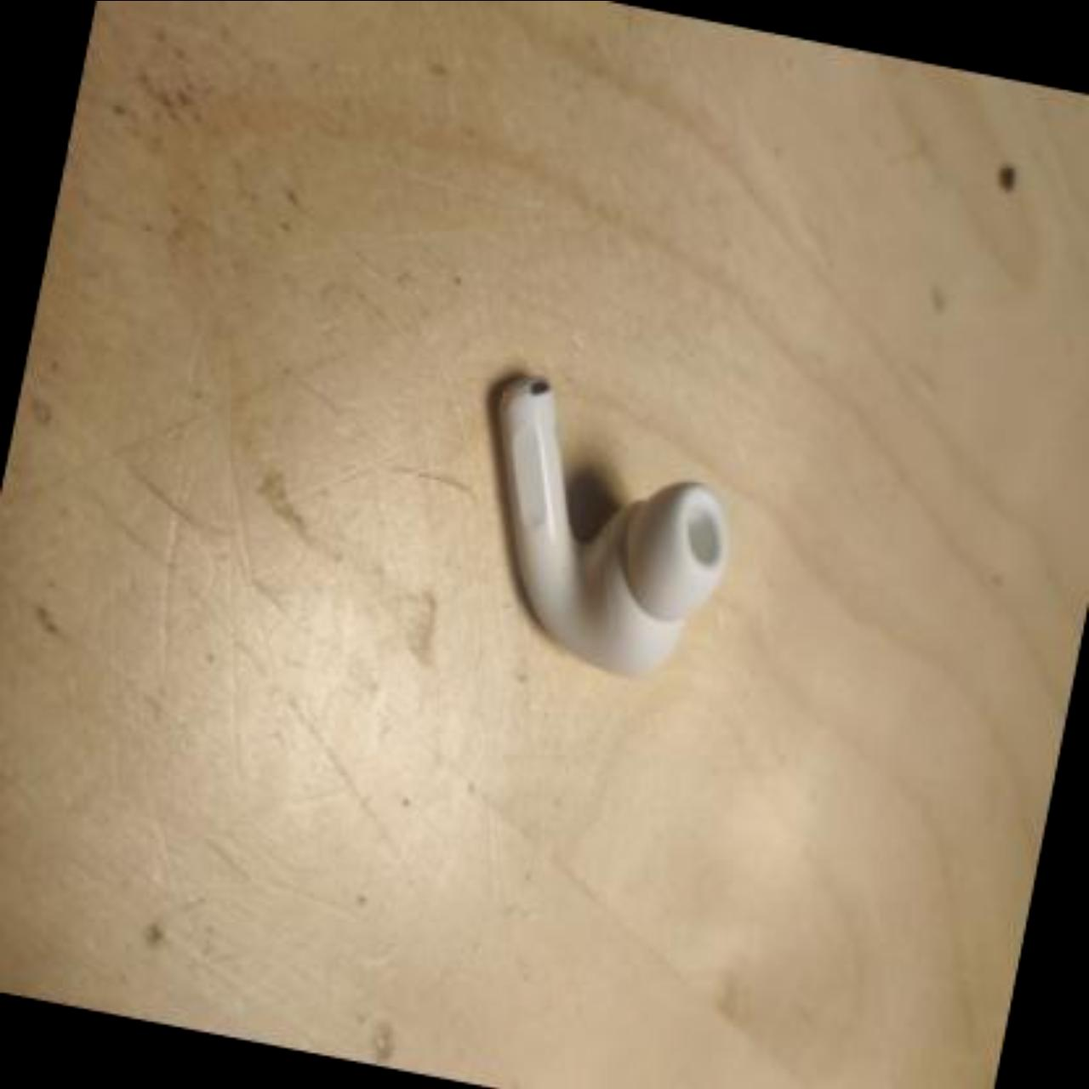Airpods_Units: (456, 363, 751, 682)
